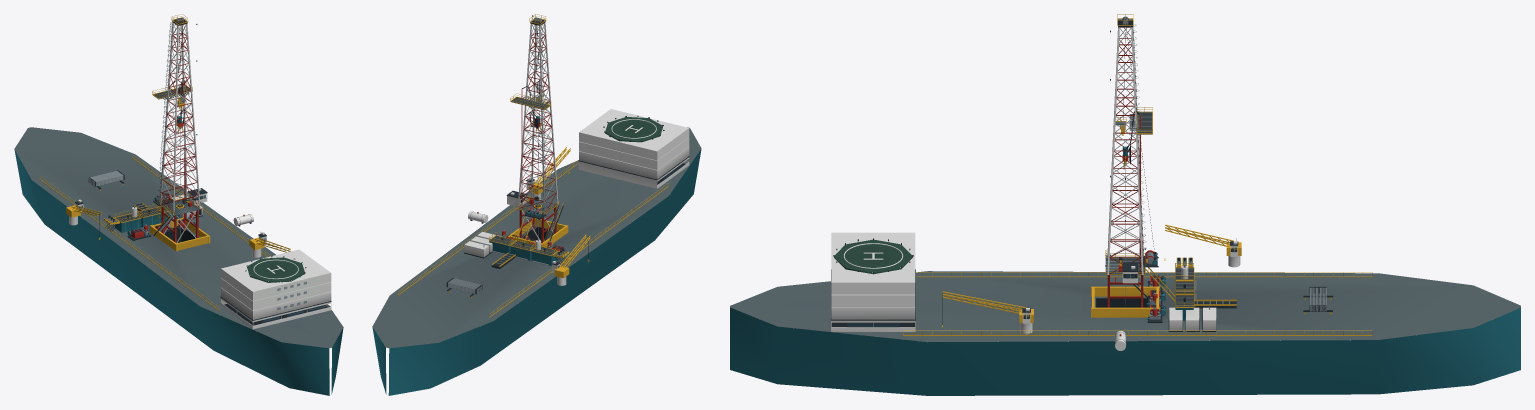
File: drillship_lodH.glb
3 views of the same model, side by side, from view 1: azimuth 30°, elevation 25°; view 2: azimuth 150°, elevation 25°; view 3: azimuth 270°, elevation 25° (orthographic). The views are drawn at different scales.
Parts seen in each view (by area): view 1: hull_surface_deck, hull_surface_blue, accommodation_surface_white, derrick_surface_white, derrick_surface_red, helideck_surface_green, deck_handrails_surface_yellow, moonpool_surface_yellow, accommodation_surface_dark, mud_tanks_surface_blue, accommodation_surface_glass, ladder_surface_steel (+5 smaller); view 2: hull_surface_deck, hull_surface_blue, accommodation_surface_white, derrick_surface_white, derrick_surface_red, helideck_surface_green, deck_handrails_surface_yellow, mud_tanks_surface_blue, moonpool_surface_yellow, generators_surface_white, ladder_surface_steel, mud_tanks_surface_yellow (+6 smaller); view 3: hull_surface_blue, hull_surface_deck, accommodation_surface_white, deck_handrails_surface_yellow, derrick_surface_white, helideck_surface_green, moonpool_surface_yellow, derrick_surface_red, generators_surface_white, accommodation_surface_dark, deck_crane_1_surface_yellow.
Boxes of the visible parts, bbox=[...] form: hull_surface_deck: bbox=[14, 127, 343, 348]; hull_surface_blue: bbox=[14, 149, 343, 395]; accommodation_surface_white: bbox=[220, 249, 331, 329]; derrick_surface_white: bbox=[159, 22, 200, 215]; derrick_surface_red: bbox=[161, 24, 198, 213]; helideck_surface_green: bbox=[247, 257, 305, 282]; deck_handrails_surface_yellow: bbox=[40, 154, 270, 310]; moonpool_surface_yellow: bbox=[149, 217, 210, 251]; accommodation_surface_dark: bbox=[220, 296, 331, 325]; mud_tanks_surface_blue: bbox=[115, 209, 179, 232]; accommodation_surface_glass: bbox=[227, 281, 325, 322]; ladder_surface_steel: bbox=[157, 22, 172, 205]; hull_surface_deck: bbox=[372, 127, 701, 348]; hull_surface_blue: bbox=[372, 149, 701, 395]; accommodation_surface_white: bbox=[578, 109, 689, 188]; derrick_surface_white: bbox=[517, 22, 558, 214]; derrick_surface_red: bbox=[519, 24, 557, 213]; helideck_surface_green: bbox=[605, 117, 662, 142]; deck_handrails_surface_yellow: bbox=[398, 161, 668, 317]; mud_tanks_surface_blue: bbox=[489, 241, 557, 265]; moonpool_surface_yellow: bbox=[508, 218, 568, 247]; generators_surface_white: bbox=[464, 231, 501, 257]; ladder_surface_steel: bbox=[539, 26, 546, 215]; mud_tanks_surface_yellow: bbox=[489, 232, 558, 255]; hull_surface_blue: bbox=[730, 307, 1520, 395]; hull_surface_deck: bbox=[730, 271, 1520, 341]; accommodation_surface_white: bbox=[831, 232, 915, 331]; deck_handrails_surface_yellow: bbox=[903, 272, 1372, 335]; derrick_surface_white: bbox=[1107, 27, 1143, 274]; helideck_surface_green: bbox=[834, 239, 912, 274]; moonpool_surface_yellow: bbox=[1091, 286, 1159, 317]; derrick_surface_red: bbox=[1108, 27, 1142, 273]; generators_surface_white: bbox=[1169, 307, 1216, 330]; accommodation_surface_dark: bbox=[831, 269, 915, 326]; deck_crane_1_surface_yellow: bbox=[942, 291, 1033, 327].
Size of the model in its own units: 42.9 by 78.58 by 160.
